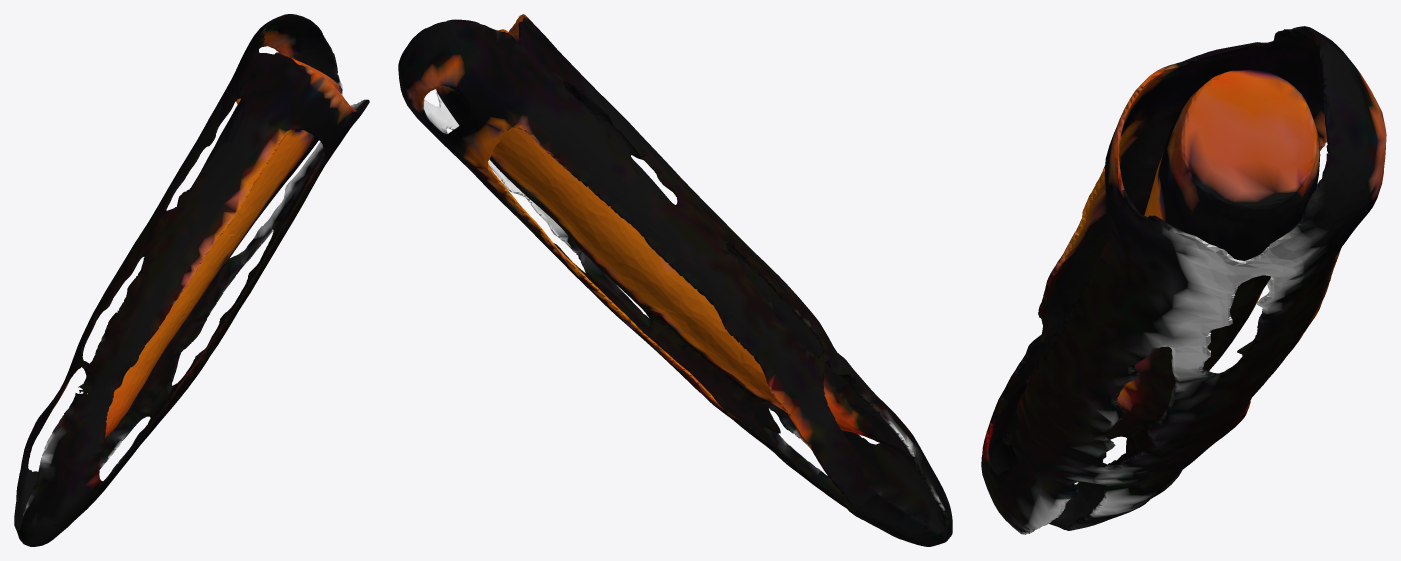
The model's file is stylus.glb.
3 views of the same model, side by side, from view 1: azimuth 30°, elevation 25°; view 2: azimuth 150°, elevation 25°; view 3: azimuth 270°, elevation 25° (orthographic). The views are drawn at different scales.
Visible parts, largest first — view 1: geometry_0; view 2: geometry_0; view 3: geometry_0.
Part boxes in pixels (x1=…): geometry_0: x1=14, y1=14, x2=369, y2=546; geometry_0: x1=398, y1=14, x2=952, y2=546; geometry_0: x1=981, y1=26, x2=1386, y2=534.
Bounding box in the file's own units: 0.5923 × 0.5938 × 0.2718.
